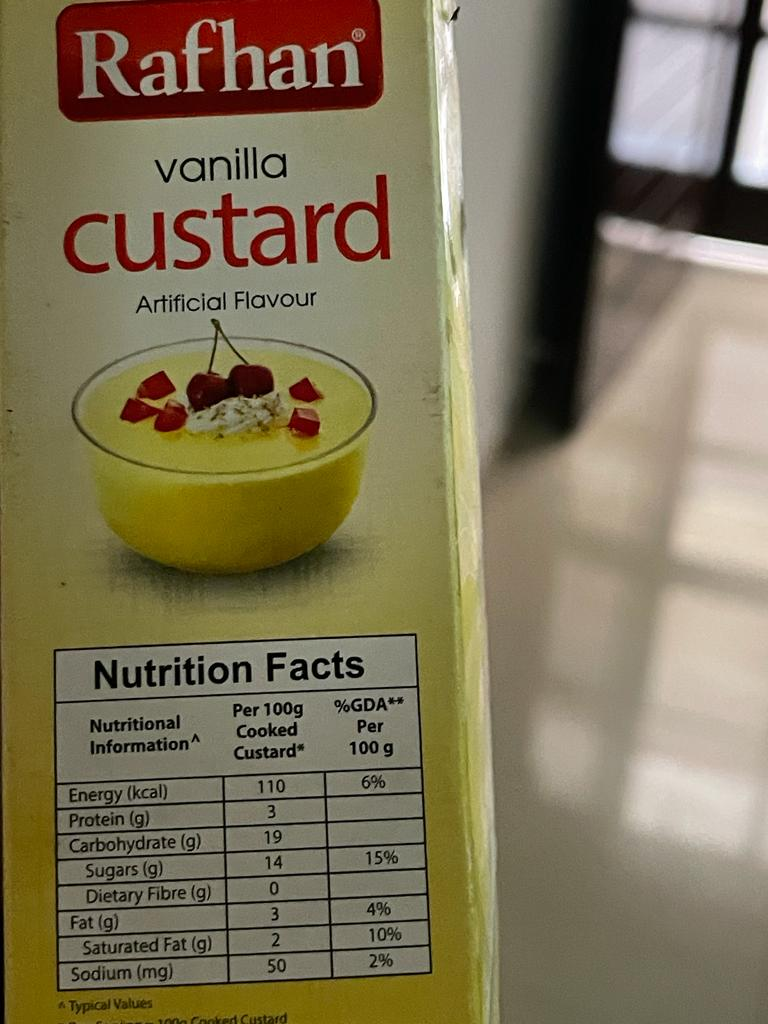table: (40, 638, 444, 982)
